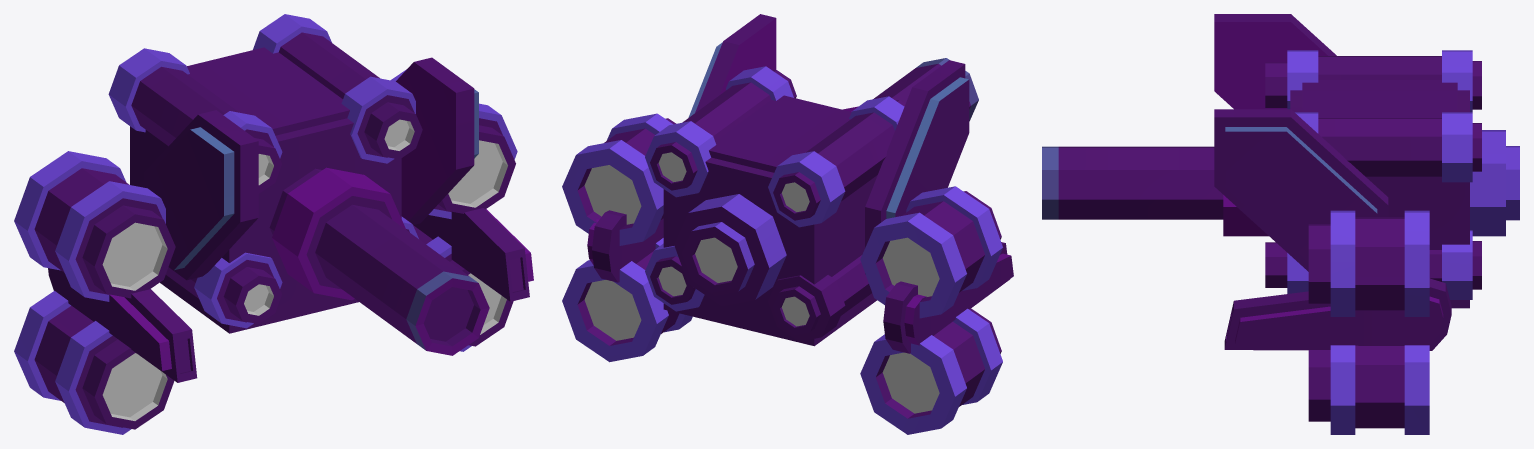
Rendered from Miner.obj.
3 renders of one model, left to right at view 1: azimuth 30°, elevation 25°; view 2: azimuth 150°, elevation 25°; view 3: azimuth 270°, elevation 25°, orthographic. The views are drawn at different scales.
Visible parts, largest first — view 1: Sunder_Cube.034; view 2: Sunder_Cube.034; view 3: Sunder_Cube.034.
Boxes of the visible parts, box(x1,y1,x2,y2) form: Sunder_Cube.034: box(14, 14, 533, 434); Sunder_Cube.034: box(562, 14, 1013, 434); Sunder_Cube.034: box(1042, 14, 1519, 434).
Bounding box in the file's own units: 7.3 × 5.02 × 7.44.
2 materials, 1 textured.
